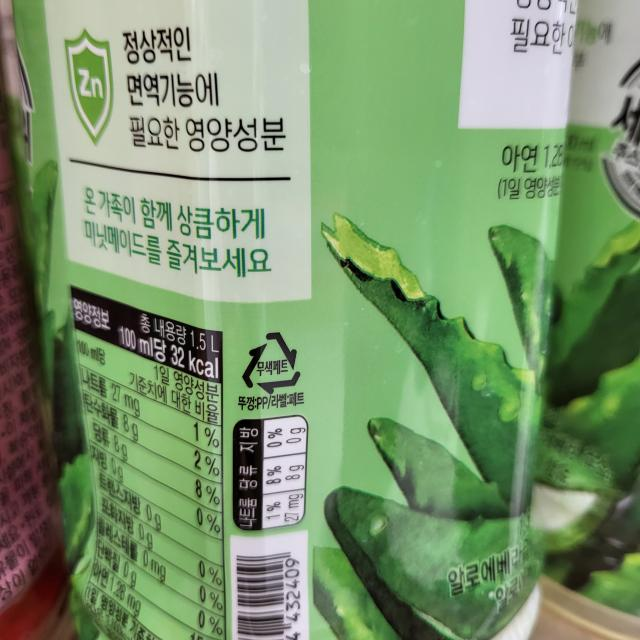ColorlessPET: (239, 328, 304, 396)
